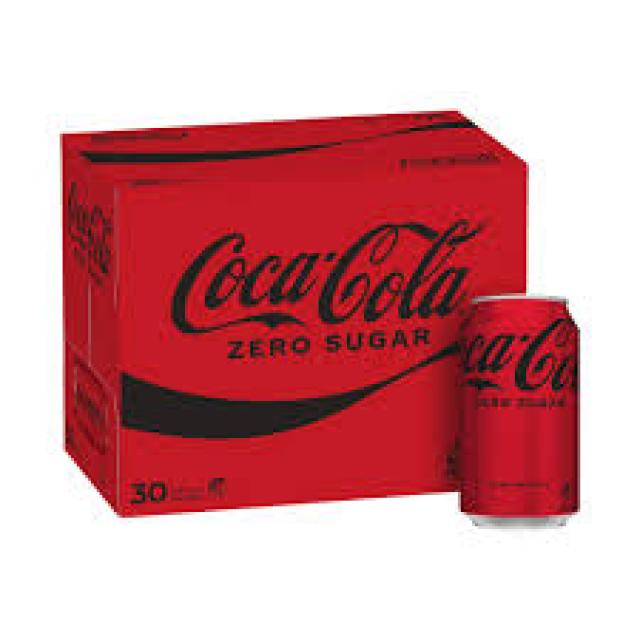Cans: (449, 284, 592, 538)
